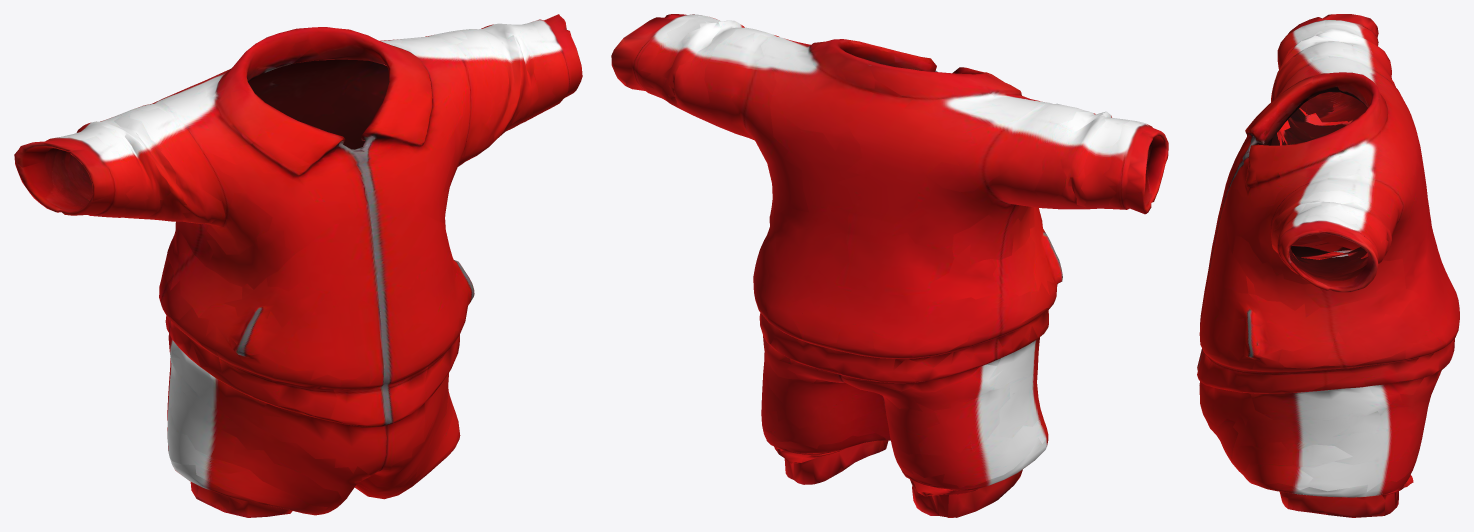
Rendered from Tracksuit-Red.glb.
The picture shows the model from 3 angles, left to right: view 1: azimuth 30°, elevation 25°; view 2: azimuth 150°, elevation 25°; view 3: azimuth 270°, elevation 25°; orthographic projection. The views are drawn at different scales.
Visible parts, largest first — view 1: Tracksuit-Red; view 2: Tracksuit-Red; view 3: Tracksuit-Red.
Boxes of the visible parts, box(x1,y1,x2,y2) form: Tracksuit-Red: box(14, 14, 582, 517); Tracksuit-Red: box(611, 14, 1168, 517); Tracksuit-Red: box(1197, 14, 1459, 517).
Bounding box in the file's own units: 0.7352 × 0.565 × 0.3498.
1 material, 1 textured.
